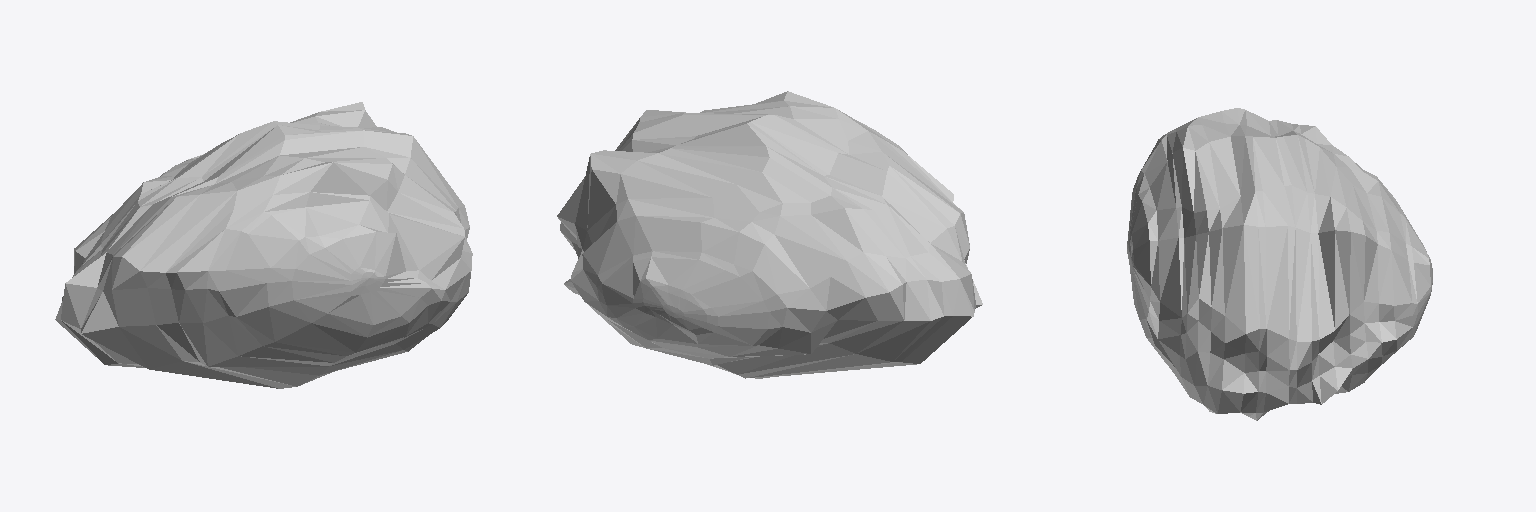
The model's file is asteroid.obj.
3 views of the same model, side by side, from view 1: azimuth 30°, elevation 25°; view 2: azimuth 150°, elevation 25°; view 3: azimuth 270°, elevation 25° (orthographic).
Visible parts, largest first — view 1: asteroid_OBJ:Sphere01; view 2: asteroid_OBJ:Sphere01; view 3: asteroid_OBJ:Sphere01.
Part boxes in pixels (left/top/right/bottom): asteroid_OBJ:Sphere01: left=55, top=102, right=472, bottom=388; asteroid_OBJ:Sphere01: left=557, top=91, right=982, bottom=378; asteroid_OBJ:Sphere01: left=1127, top=108, right=1432, bottom=420.
Bounding box in the file's own units: 3.98 × 2.41 × 2.59.